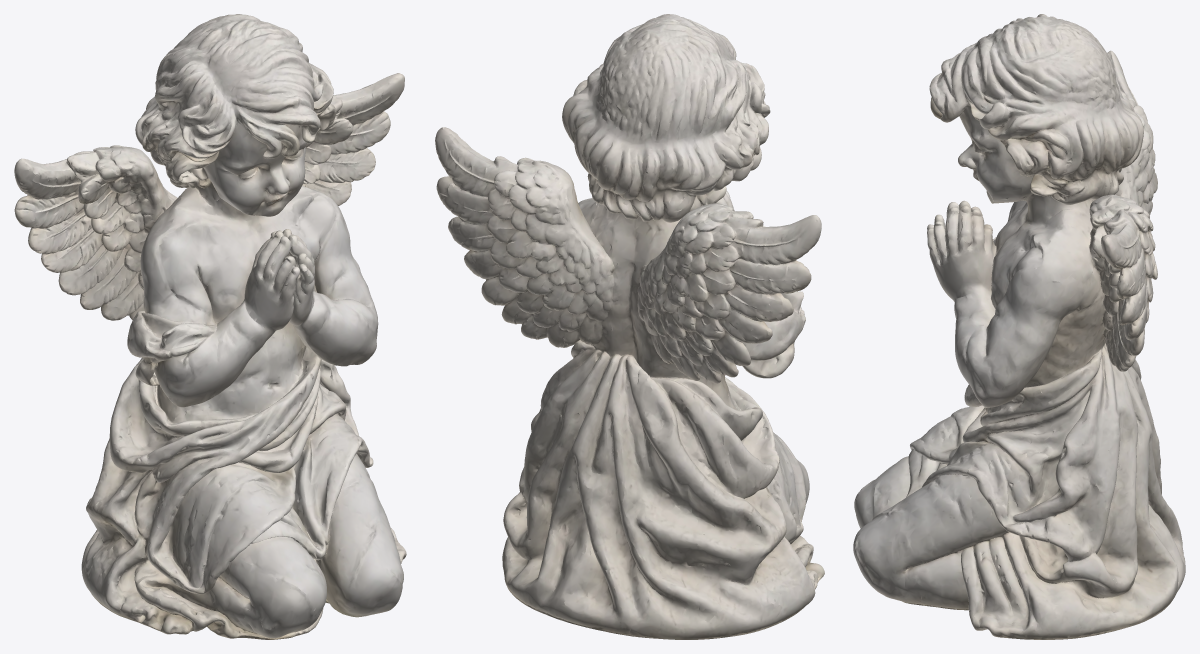
File: cherub-hero-v3-300k.glb
3 views of the same model, side by side, from view 1: azimuth 30°, elevation 25°; view 2: azimuth 150°, elevation 25°; view 3: azimuth 270°, elevation 25° (orthographic).
Visible parts, largest first — view 1: model; view 2: model; view 3: model.
Boxes of the visible parts, x1,y1,x2,y2 form: model: (14, 14, 406, 639); model: (435, 14, 824, 639); model: (853, 14, 1185, 639).
Bounding box in the file's own units: 1.39 × 1.9 × 1.04.
Materials: 1 (1 with a texture image).
